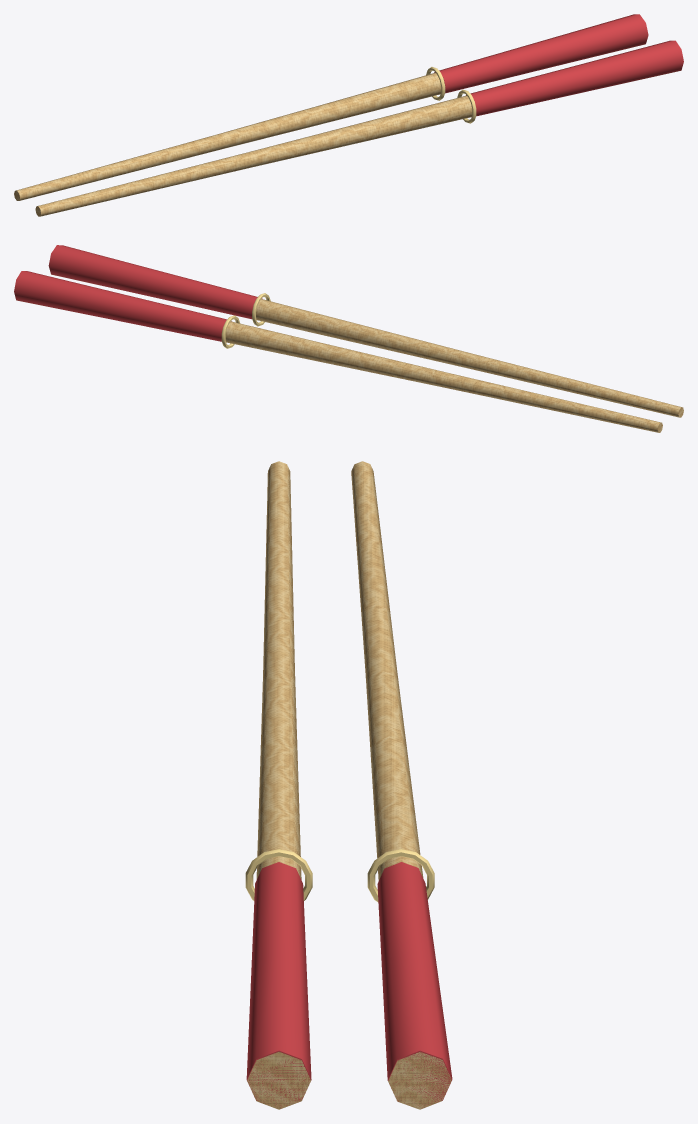
The model's file is ENV_Dimsum_ChopLying.fbx.
The picture shows the model from 3 angles, top to bottom: view 1: azimuth 30°, elevation 25°; view 2: azimuth 150°, elevation 25°; view 3: azimuth 270°, elevation 25°; orthographic projection. The views are drawn at different scales.
Visible parts, largest first — view 1: ENV_Dimsum_ChopLying; view 2: ENV_Dimsum_ChopLying; view 3: ENV_Dimsum_ChopLying.
Boxes of the visible parts, left/top/right/bottom form: ENV_Dimsum_ChopLying: left=14, top=14, right=683, bottom=216; ENV_Dimsum_ChopLying: left=14, top=245, right=683, bottom=432; ENV_Dimsum_ChopLying: left=245, top=461, right=452, bottom=1109.
Size of the model in its own units: 18.02 by 0.86 by 2.58.
